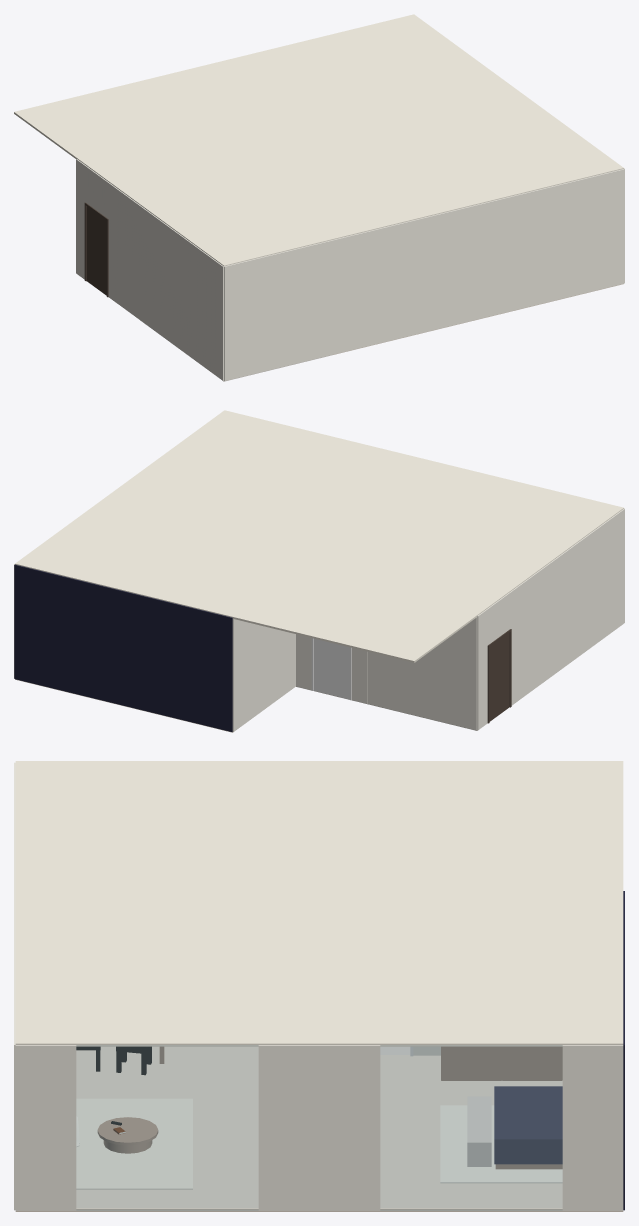
Rendered from apartment.dae.
3 views of the same model, one above another, from view 1: azimuth 30°, elevation 25°; view 2: azimuth 150°, elevation 25°; view 3: azimuth 270°, elevation 25° (orthographic). The views are drawn at different scales.
Visible parts, largest first — view 1: Ceiling, Wall5, Wall4, FrontDoorMain, Wall3, Wall1, Wall2; view 2: Ceiling, BRAccentWall, Wall4, Wall16, Wall9, WRDoorMain, FrontDoorMain, Wall1, Wall3, Wall15, Wall13, Wall2; view 3: Ceiling, Window1, Window2, LRFloor, BRFloor, Wall8, Wall7.1, Wall7.2, Wall6, Rug, Blanket, BRRug (+6 smaller).
Part boxes in pixels (box(x1,y1,x2,y2)): Ceiling: box(14, 14, 623, 266); Wall5: box(224, 169, 624, 380); Wall4: box(118, 190, 223, 380); FrontDoorMain: box(86, 206, 106, 295); Wall3: box(107, 182, 118, 303); Wall1: box(76, 159, 86, 279); Wall2: box(86, 166, 107, 218); Ceiling: box(15, 410, 623, 662); BRAccentWall: box(14, 564, 232, 731); Wall4: box(519, 508, 624, 699); Wall16: box(368, 616, 477, 730); Wall9: box(232, 618, 295, 731); WRDoorMain: box(314, 638, 349, 699); FrontDoorMain: box(489, 632, 509, 721); Wall1: box(477, 608, 488, 729); Wall3: box(509, 585, 519, 705); Wall15: box(351, 648, 367, 703); Wall13: box(296, 634, 311, 689); Wall2: box(488, 593, 509, 644); Ceiling: box(15, 761, 623, 1046); Window1: box(76, 1045, 258, 1210); Window2: box(380, 1045, 562, 1210); LRFloor: box(15, 1046, 319, 1211); BRFloor: box(319, 1055, 623, 1211); Wall8: box(562, 1045, 623, 1210); Wall7.1: box(258, 1045, 319, 1210); Wall7.2: box(319, 1045, 380, 1210); Wall6: box(15, 1045, 76, 1210); Rug: box(76, 1098, 192, 1189); Blanket: box(494, 1086, 562, 1164); BRRug: box(440, 1105, 562, 1183).
Bounding box in the file's own units: 1108 × 305 × 1005.
